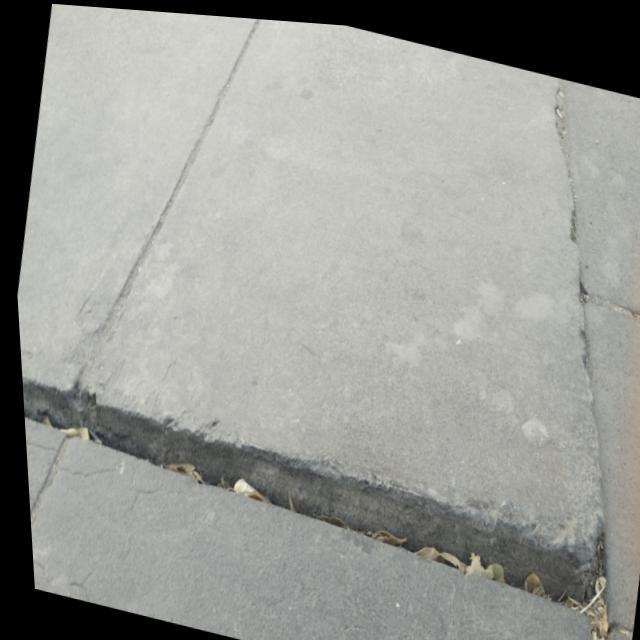bump: (18, 370, 608, 603)
